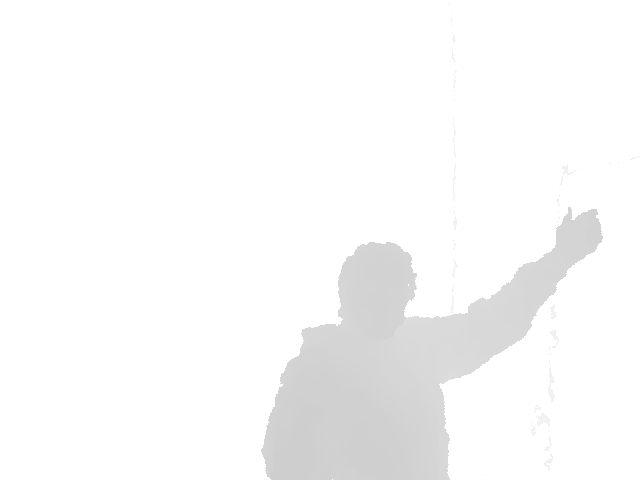hand: (554, 204, 605, 263)
head: (337, 240, 417, 342)
person: (259, 204, 605, 480)
